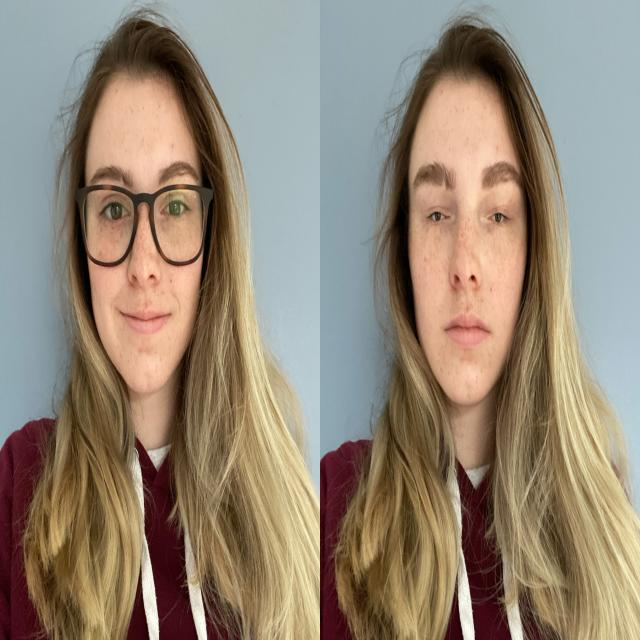Glasses: (75, 176, 214, 271)
